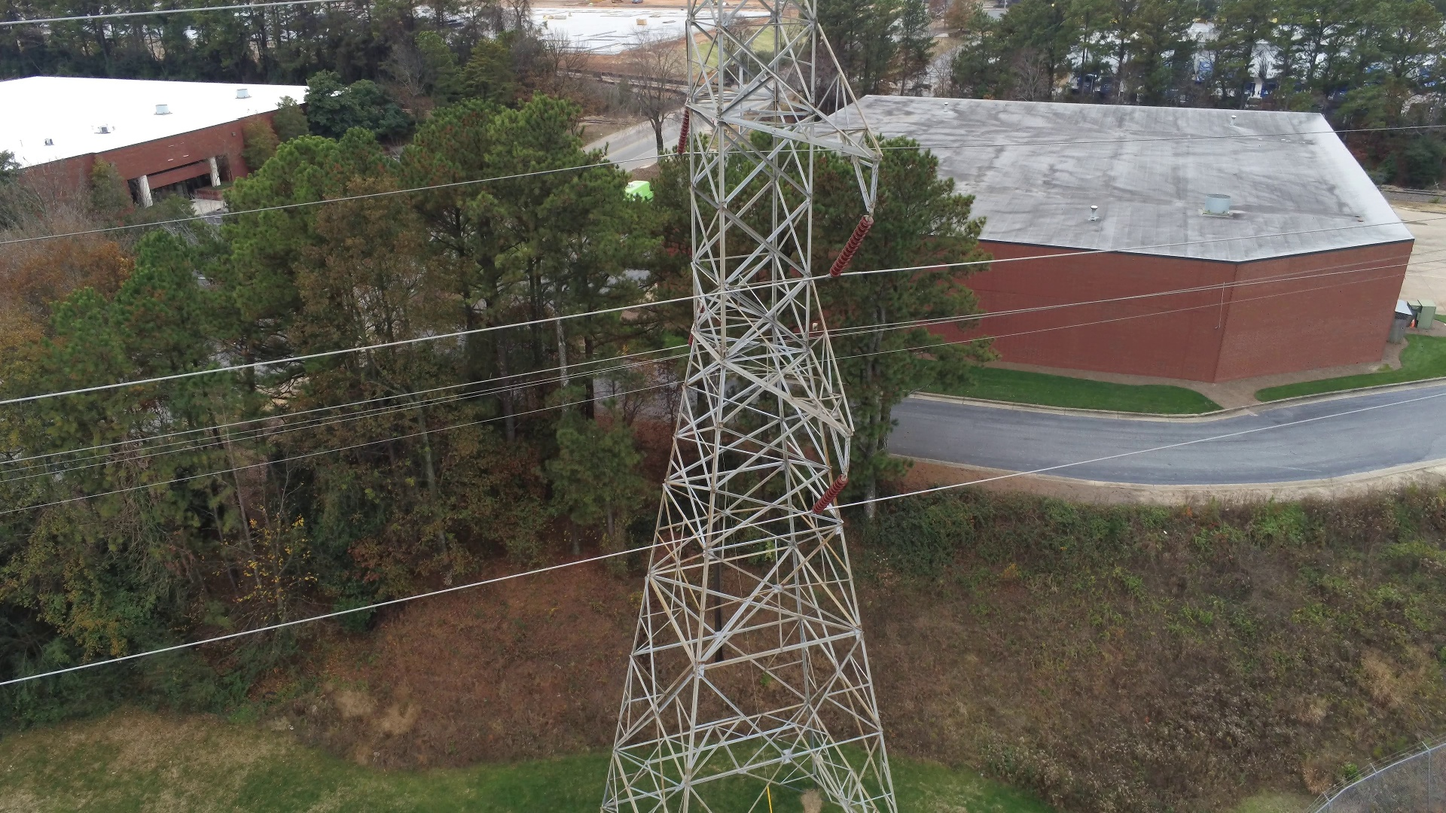insulator: (828, 214, 875, 279), (810, 472, 850, 517), (673, 105, 691, 157)
